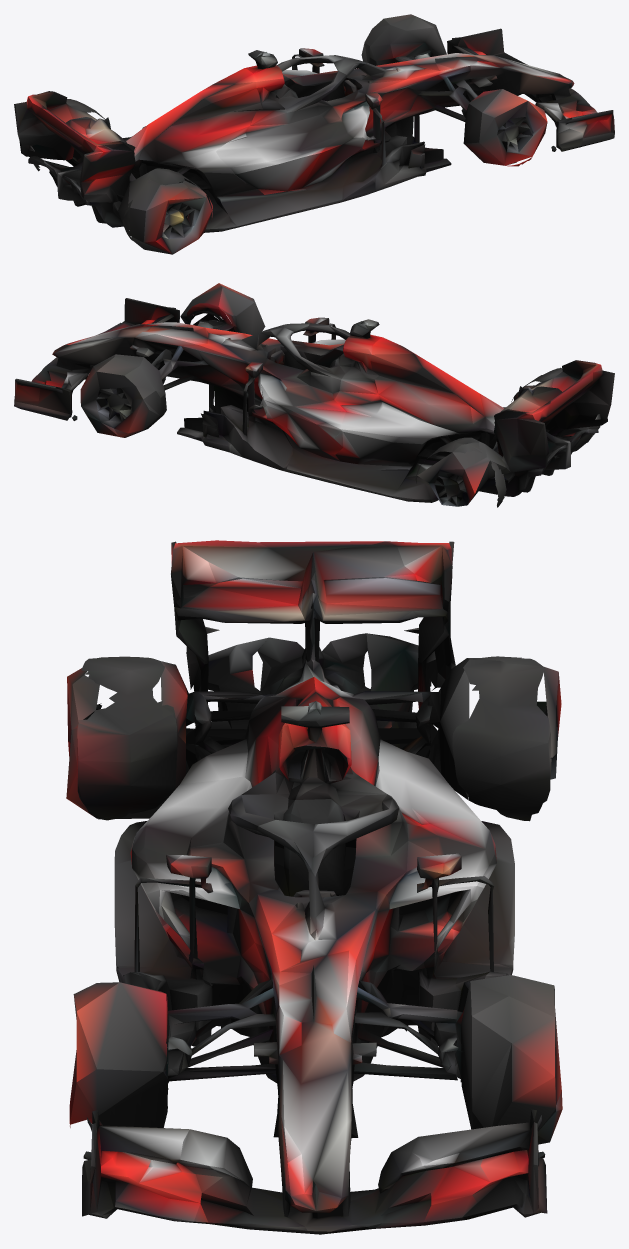
The model's file is tm_tempesta_race.glb.
The picture shows the model from 3 angles, top to bottom: view 1: azimuth 30°, elevation 25°; view 2: azimuth 150°, elevation 25°; view 3: azimuth 270°, elevation 25°; orthographic projection. The views are drawn at different scales.
Parts seen in each view (by area): view 1: body, wheel_RR_part, wheel_FR_part, wheel_FL_part; view 2: body, wheel_FL_part, wheel_RL_part, wheel_FR_part, wheel_RR_part; view 3: body, wheel_FL_part, wheel_FR_part, wheel_RR_part, wheel_RL_part.
Part boxes in pixels (box(x1,y1,x2,y2)): body: box(14, 28, 614, 240); wheel_RR_part: box(118, 171, 212, 254); wheel_FR_part: box(463, 89, 547, 165); wheel_FL_part: box(361, 14, 446, 65); body: box(14, 298, 614, 507); wheel_FL_part: box(80, 354, 166, 437); wheel_RL_part: box(417, 441, 510, 506); wheel_FR_part: box(180, 283, 265, 334); wheel_RR_part: box(514, 385, 600, 451); body: box(69, 540, 551, 1234); wheel_FL_part: box(454, 975, 562, 1144); wheel_FR_part: box(70, 982, 167, 1127); wheel_RR_part: box(66, 661, 196, 819); wheel_RL_part: box(429, 658, 561, 799).
Size of the model in its own units: 1.9 by 0.4363 by 0.7753.
